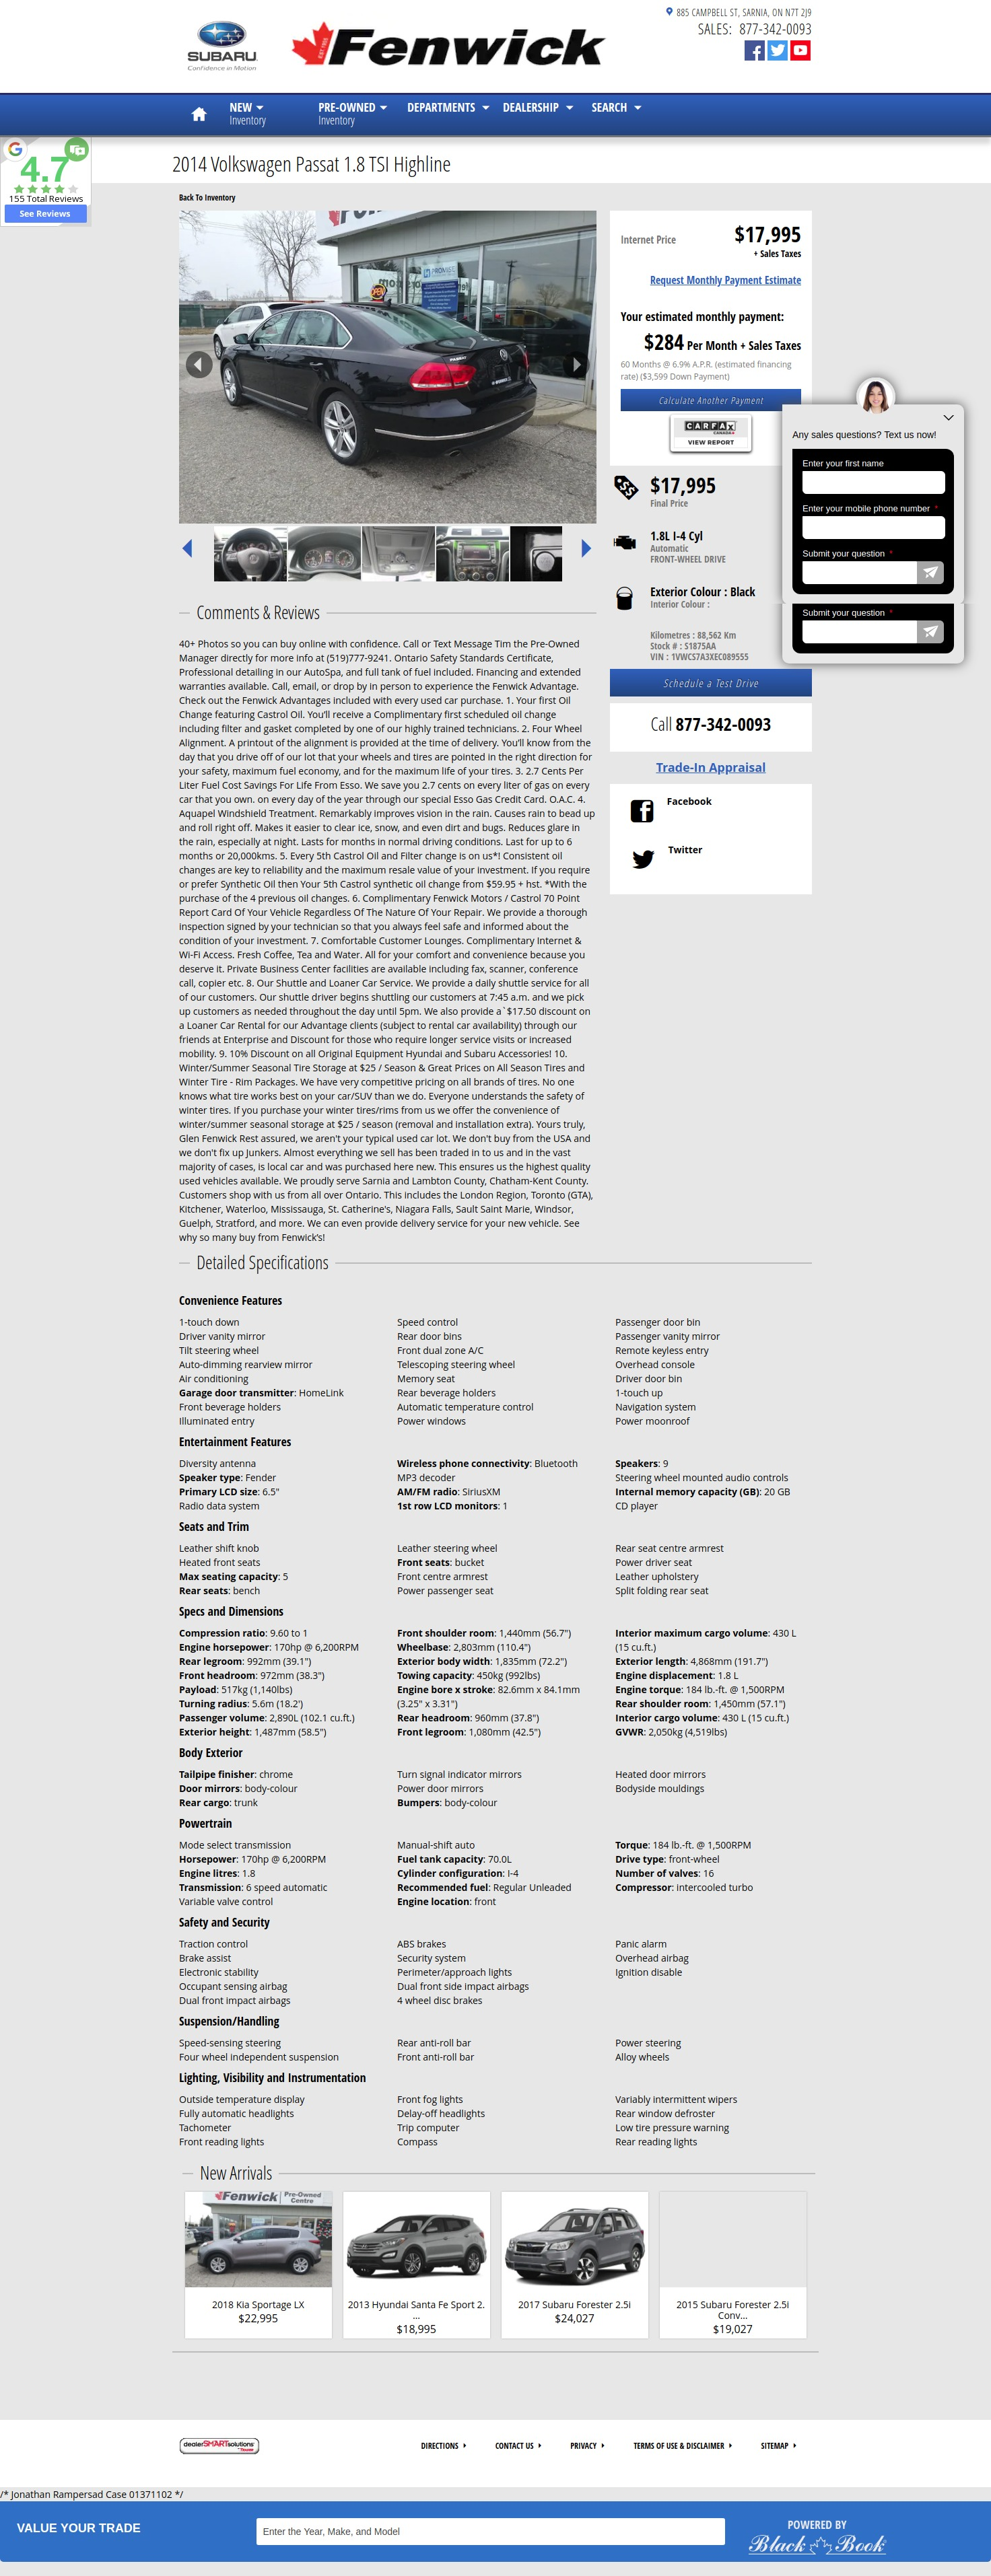car: (582, 539, 592, 559)
